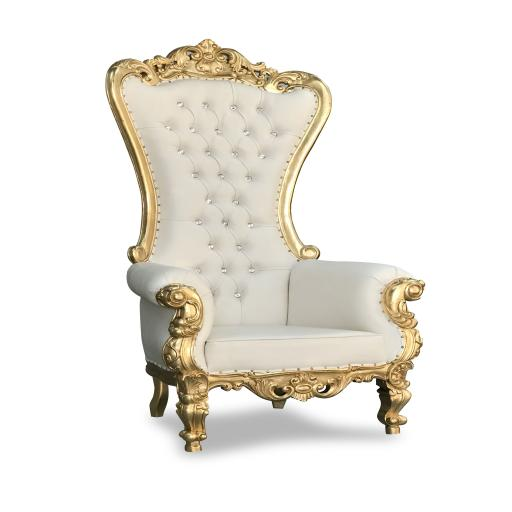chair: (105, 38, 425, 453)
